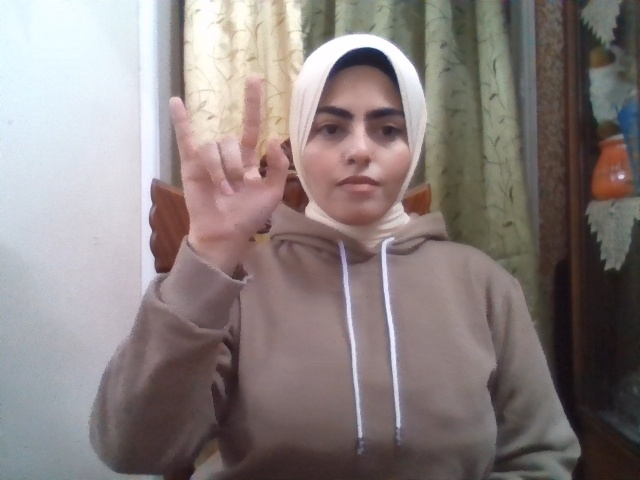iloveyou: (169, 74, 290, 243)
